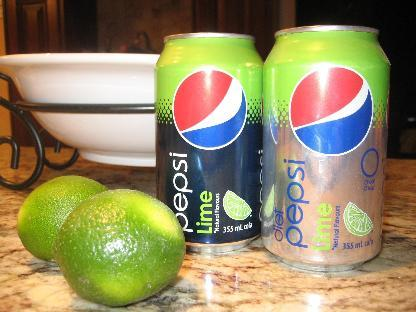Can: (260, 23, 392, 273), (154, 31, 264, 255)
